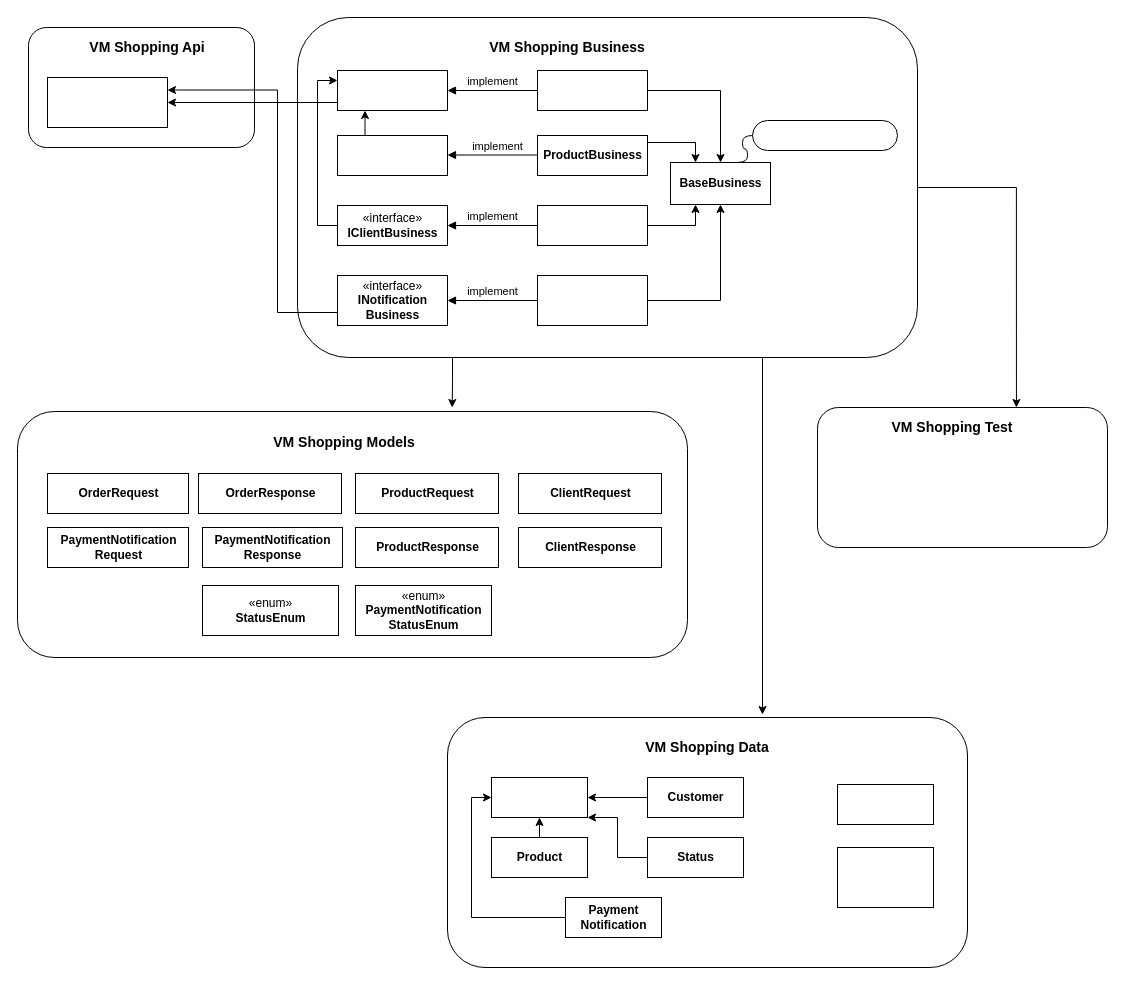
This 1125x985 diagram has some shape labels left out. The box of each missing label's shape, as (x1, y1, x2, y2) in pixels:
ClientBusiness: (536, 204, 648, 246)
DBContext (Singleton): (752, 120, 898, 150)
Notification Business: (536, 274, 648, 326)
Order: (490, 776, 588, 818)
OrderBusiness: (536, 70, 648, 110)
OrderController: (46, 76, 168, 128)
Shopping Context Migrations: (836, 846, 934, 908)
Shopping DBContext: (836, 784, 934, 824)
«interface» I OrderBusiness: (336, 70, 448, 110)
«interface» I ProductBusiness: (336, 134, 448, 176)
